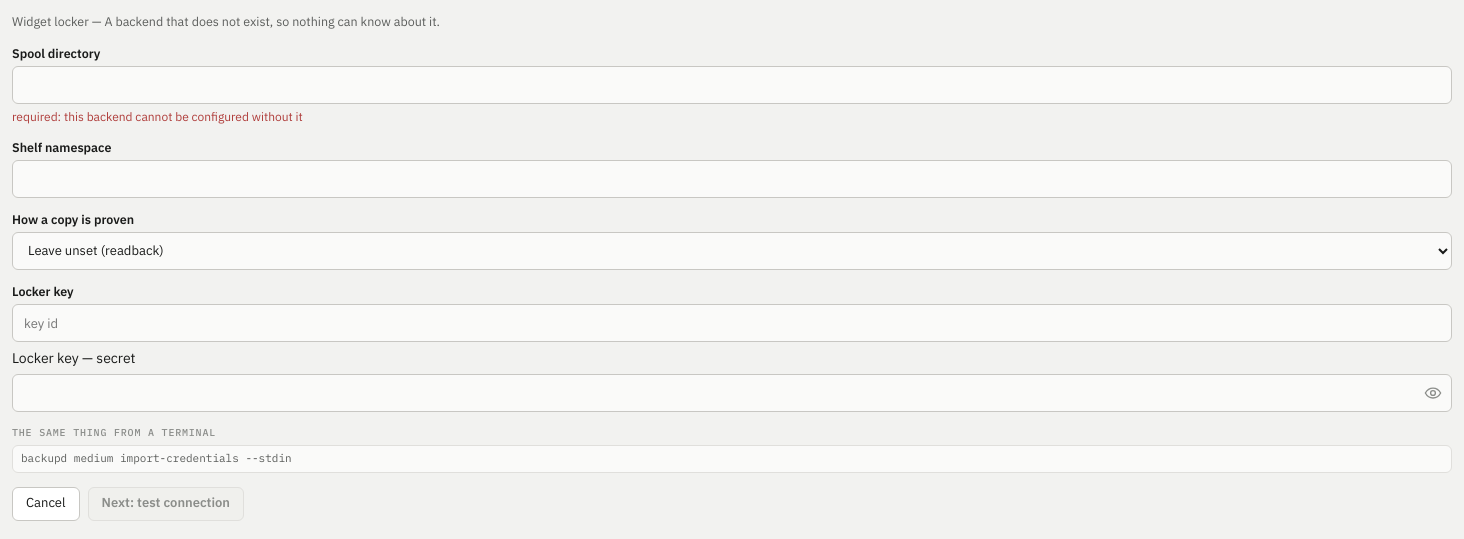
Test case: the assertions #594 made about the add path, on the manifest renderer › keeps the save out of reach while the destination cannot be proven, and renders every step
The width and height of the screenshot is (1464, 539).
Check: the element with test id "manifest-field-row-path" is shown, box [12,44,1452,126]
Type "/mnt/lockers" into the field with test id "manifest-field-control" showing "Spool directory" at (732, 85), box [12,66,1452,104]
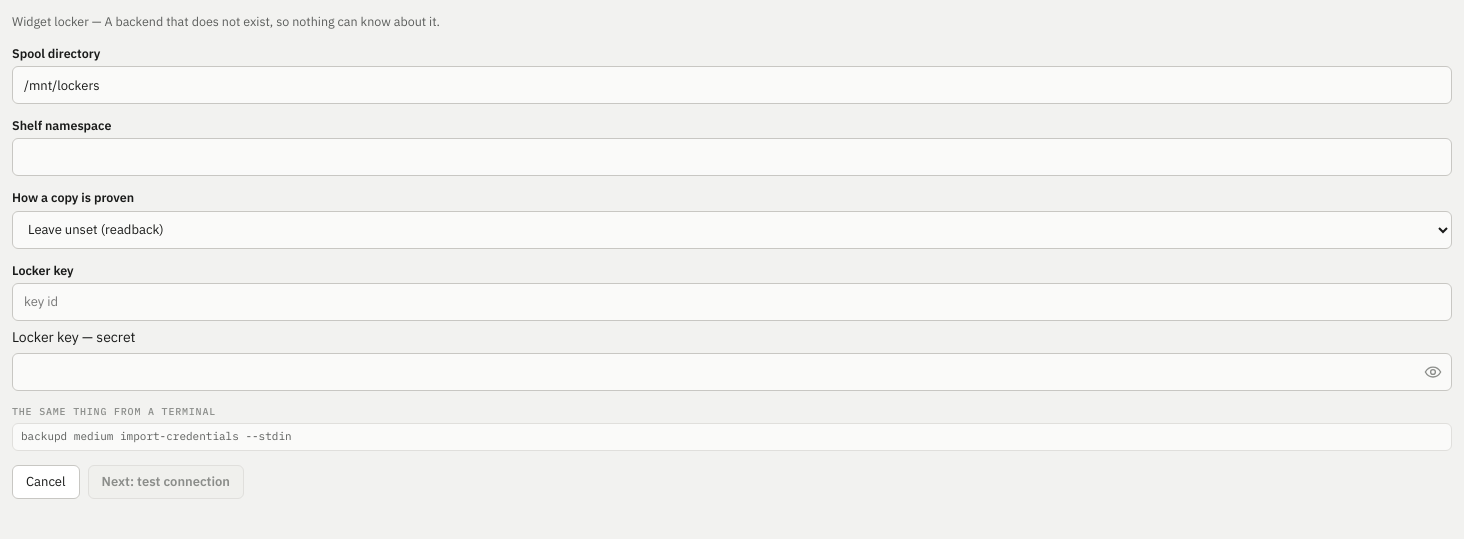
Type "widgets/2026" into the field labelled "Shelf namespace" at (732, 157), box [12,138,1452,176]
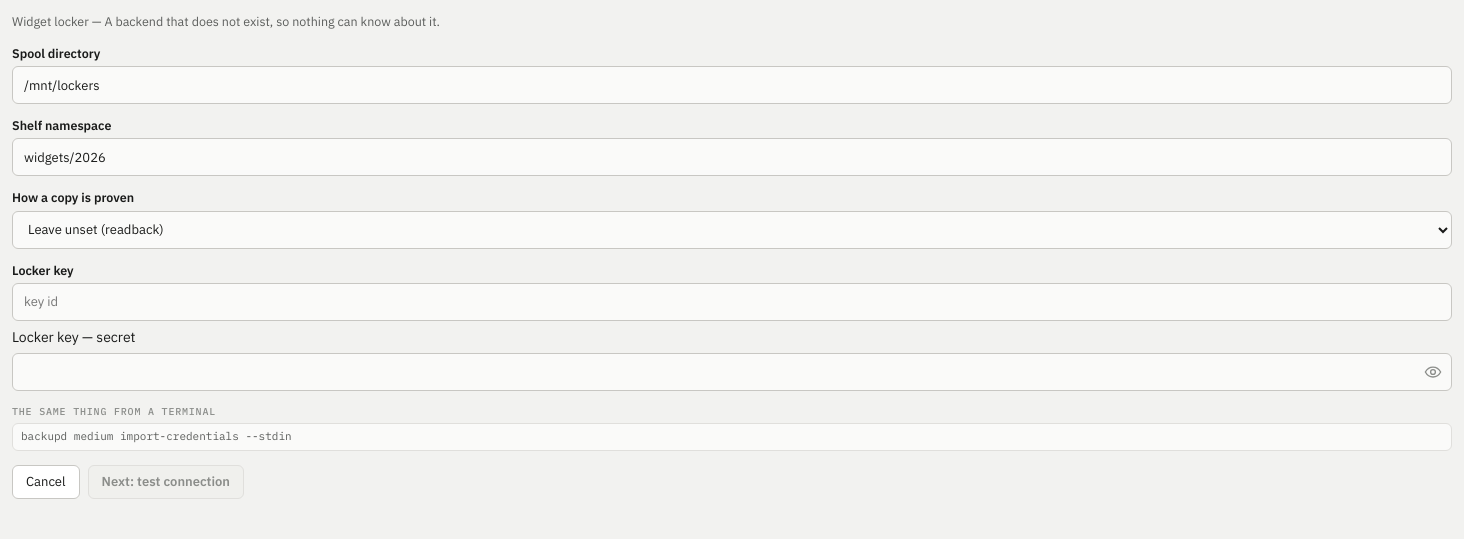
Type "EXAMPLE-NOT-A-REAL-KEY" into the field labelled "Locker key" at (732, 302), box [12,283,1452,321]
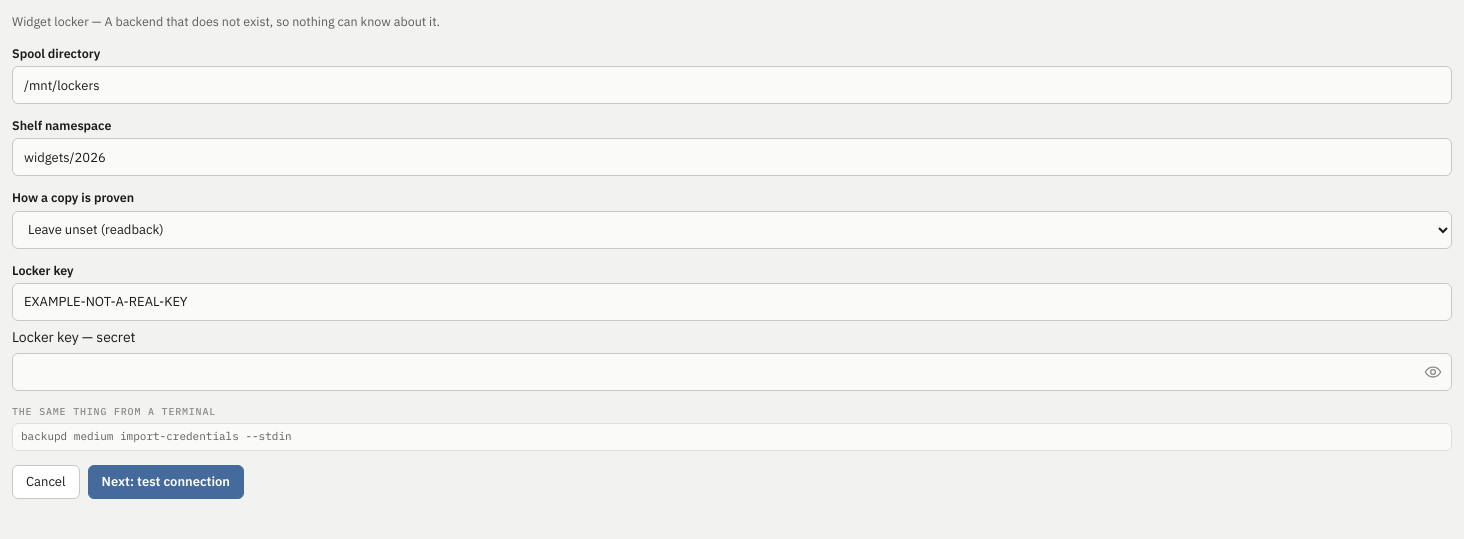
Type "CANARY-669-configure-8b21f0ac-DO-NOT-SEND" into the password field labelled "Locker key — secret" at (732, 372), box [12,353,1452,391]
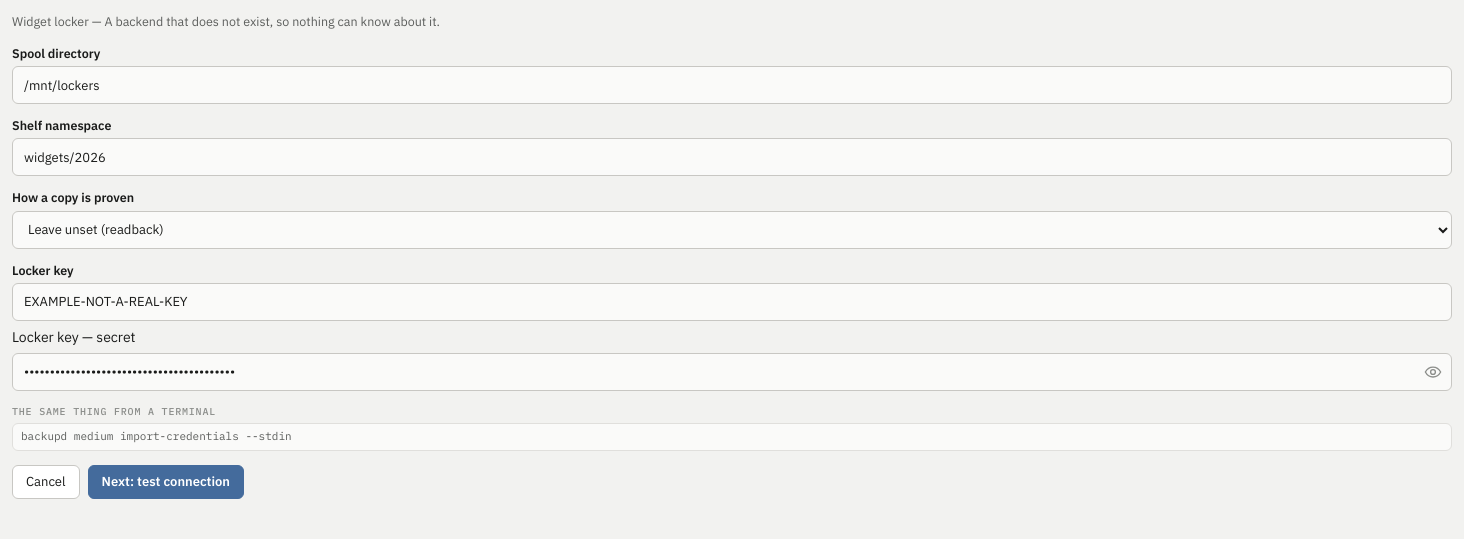
Check: the button "Next: test connection" is enabled
Click the button "Next: test connection" at (166, 482), box [88,465,244,499]
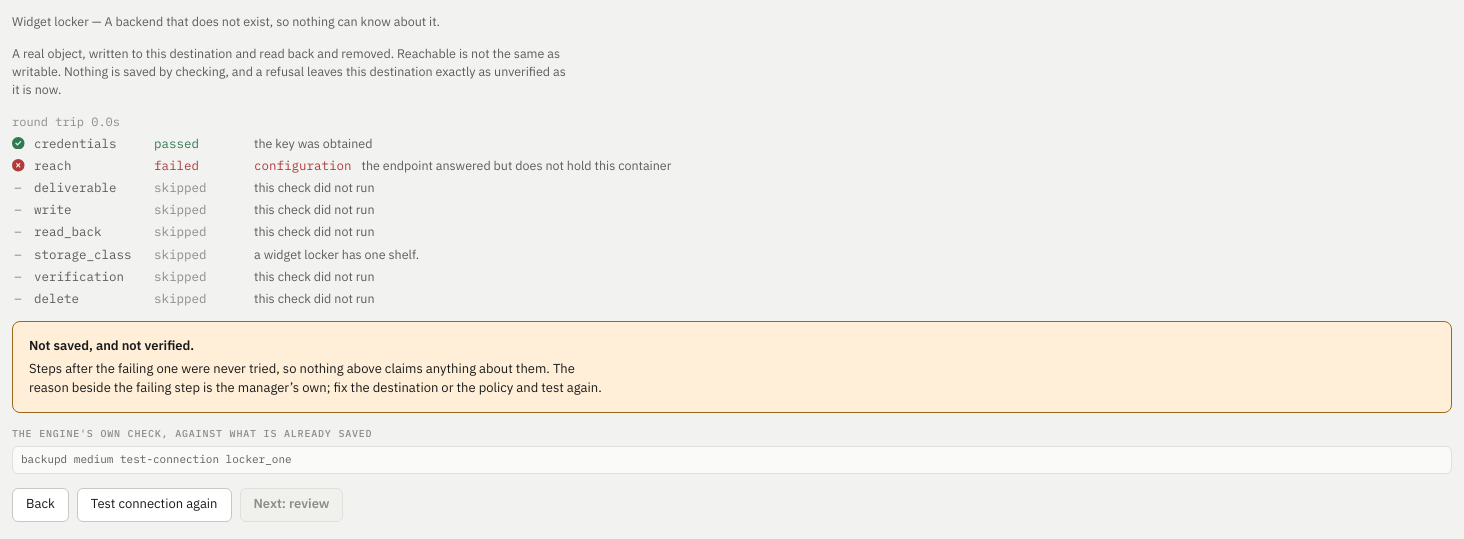
Check: the element with test id "probe-step-row-reach" is shown, box [12,157,671,173]
Check: the button "Next: review" is disabled, box [240,488,344,522]
Check: the element with test id "probe-step-row-write" is shown, box [14,201,374,217]
